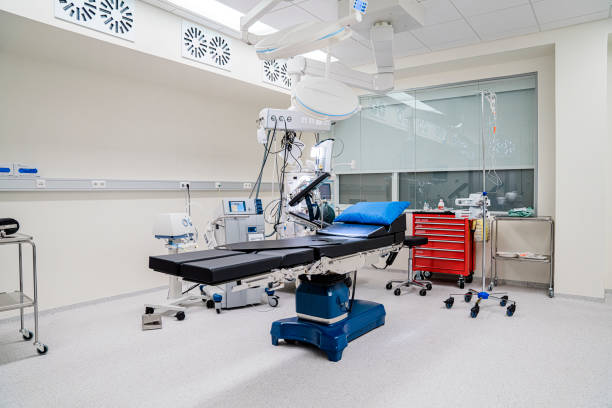bedside_monitor: (226, 198, 265, 219), (315, 182, 335, 200)
iv_pole: (441, 89, 516, 321)
medical_drawer: (412, 212, 477, 288)
operating_bed: (146, 199, 405, 360)
surgical_light: (288, 79, 360, 119)
utility_cart: (1, 230, 48, 357), (488, 214, 556, 299)
